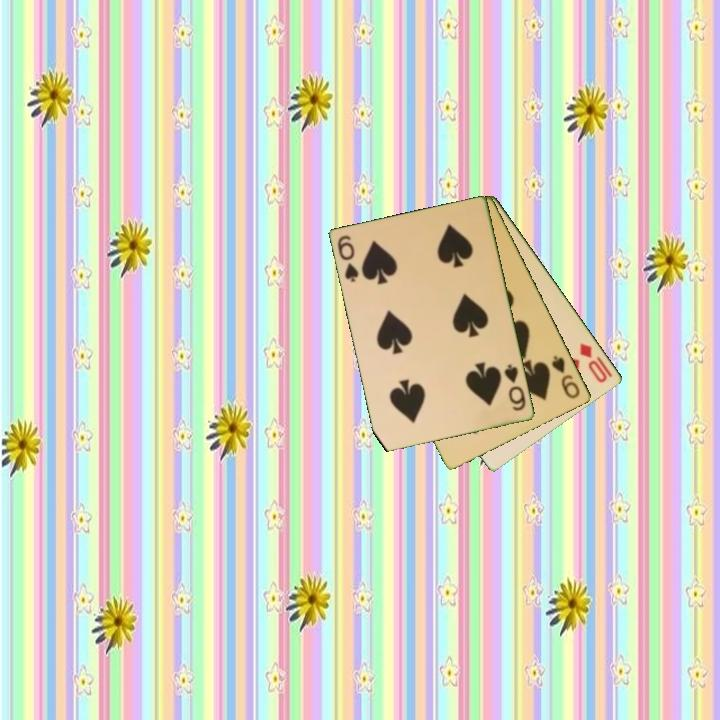10d: (576, 339, 611, 386)
6s: (501, 361, 529, 414), (334, 232, 362, 285)
9s: (548, 352, 583, 402)
